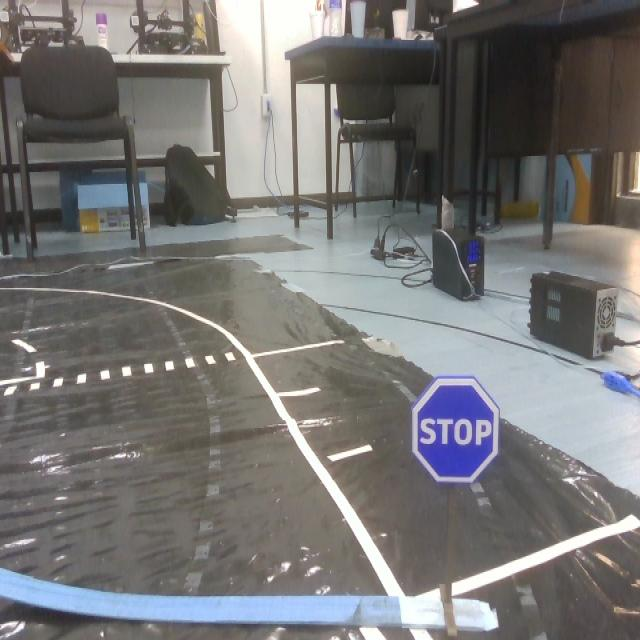no_entry: (419, 370, 497, 486)
